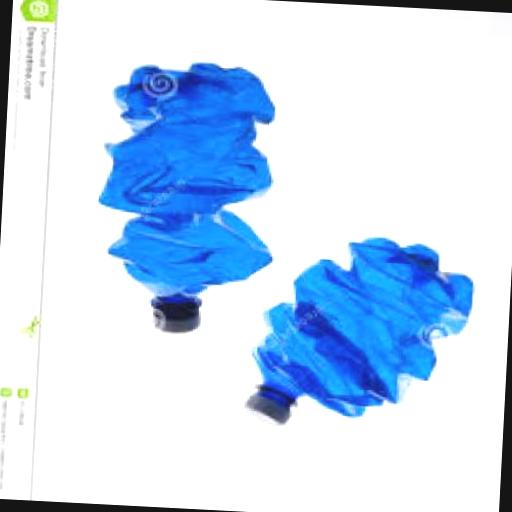plastic: (96, 62, 282, 342), (248, 234, 482, 436), (248, 388, 303, 430), (152, 298, 207, 338)
